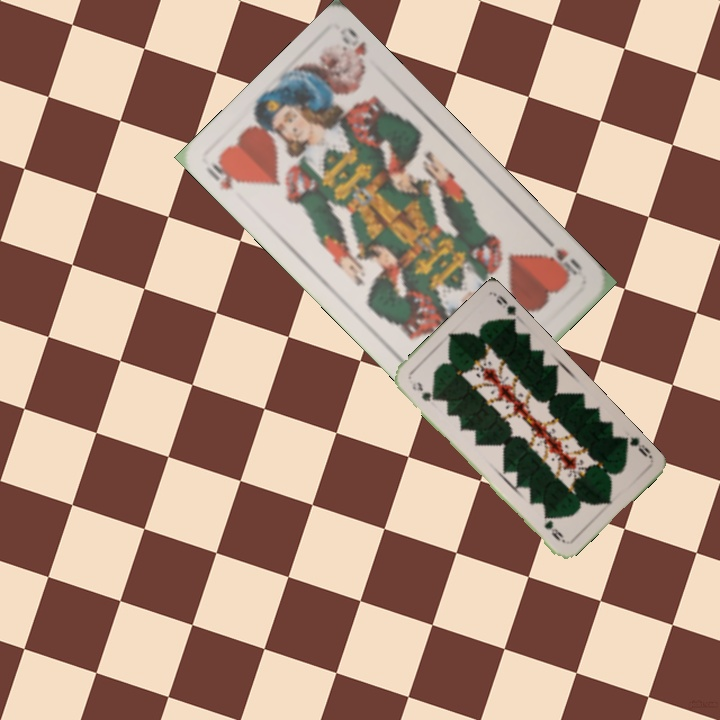G9: (618, 433, 655, 461), (408, 378, 438, 404)
HO: (540, 233, 585, 283), (201, 153, 246, 192)
